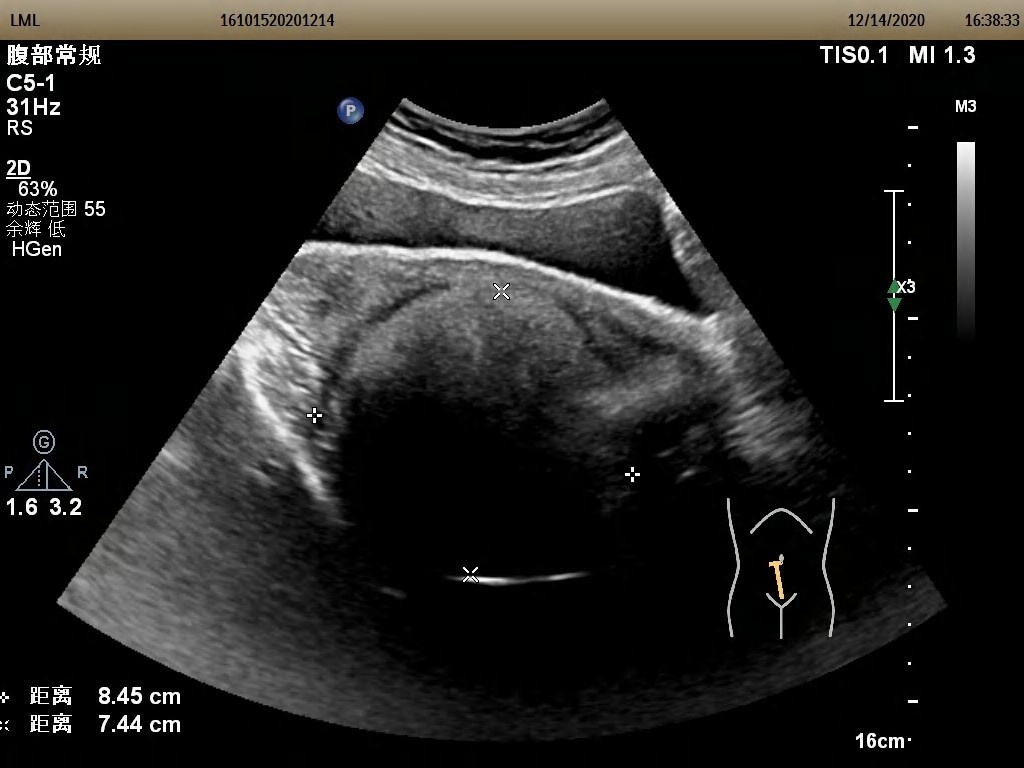肌瘤: (335, 300, 631, 568)
